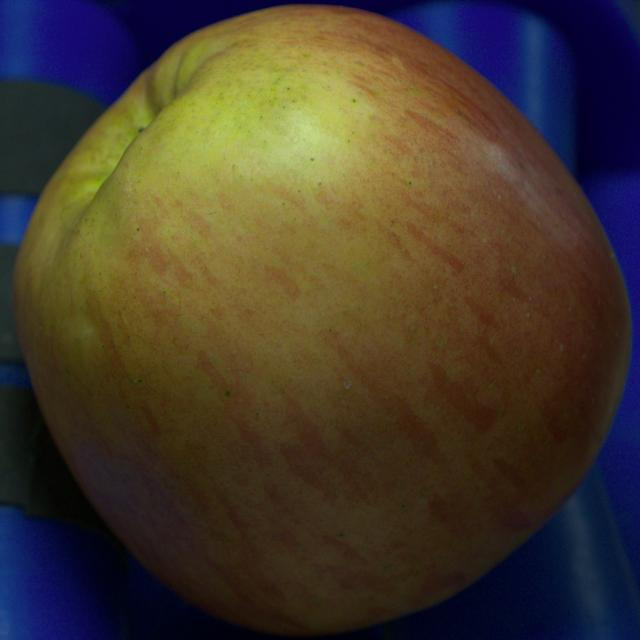apple: (14, 5, 631, 635)
